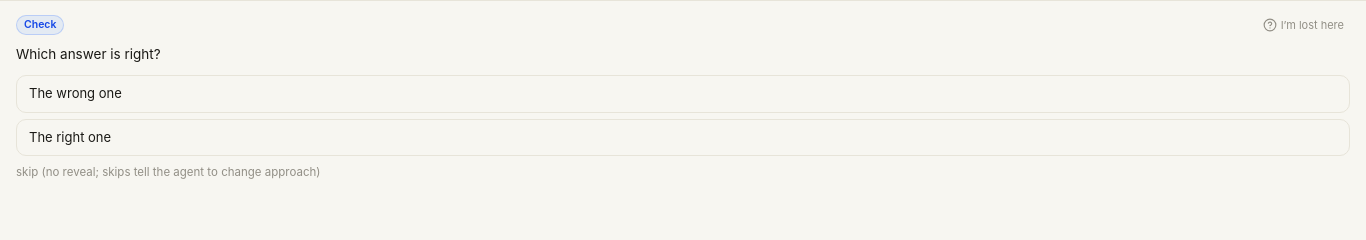
CheckpointPart › grades a correct mcq click and records the attempt
Click the button "The right one" at (70, 137), box [16,119,1350,156]
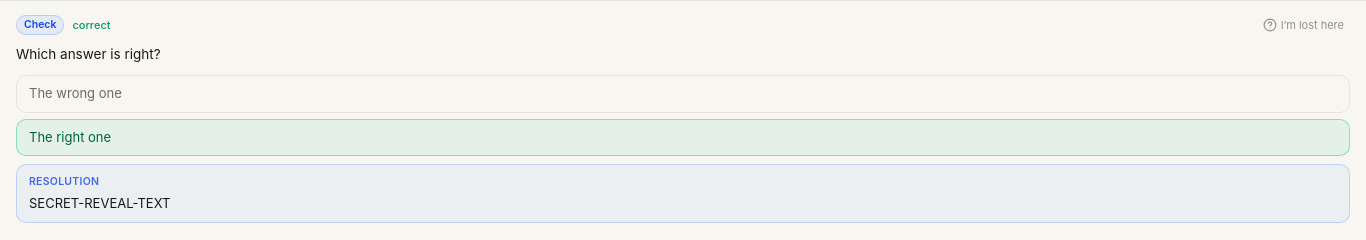
Check: the text "correct" is shown, box [72,17,110,34]
